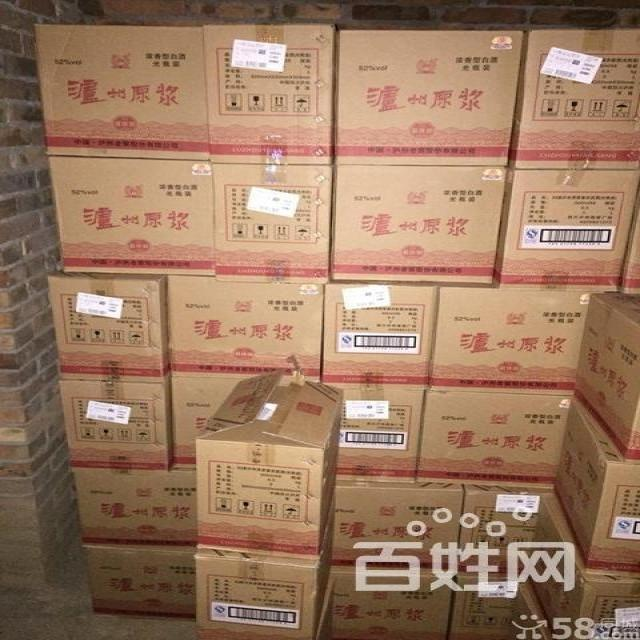box: (195, 369, 344, 561), (332, 31, 527, 165), (33, 24, 209, 161), (195, 484, 335, 640), (329, 165, 509, 286), (47, 156, 213, 277), (508, 29, 640, 171), (492, 167, 640, 293), (201, 24, 333, 165), (428, 286, 591, 396), (521, 492, 640, 639), (167, 276, 327, 383), (415, 388, 577, 491), (552, 398, 640, 579), (209, 161, 332, 284), (49, 270, 171, 384), (333, 478, 464, 572), (321, 283, 440, 384), (576, 294, 640, 466), (57, 378, 173, 471), (321, 384, 428, 484), (72, 463, 196, 548), (80, 539, 197, 620), (332, 565, 456, 639), (456, 488, 553, 576), (169, 378, 245, 465), (449, 573, 521, 639), (509, 582, 557, 640), (619, 188, 640, 296)
